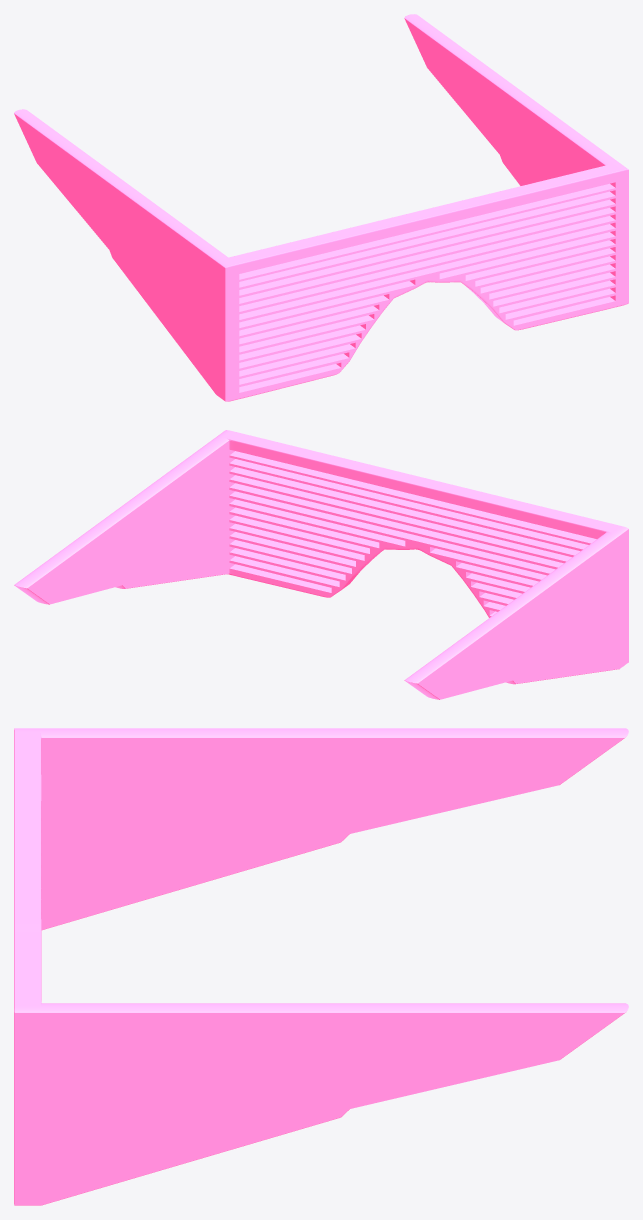
Rendered from SK_CYBERGLASSES.fbx.
3 renders of one model, top to bottom at view 1: azimuth 30°, elevation 25°; view 2: azimuth 150°, elevation 25°; view 3: azimuth 270°, elevation 25°, orthographic. The views are drawn at different scales.
Parts seen in each view (by area): view 1: Cube.001; view 2: Cube.001; view 3: Cube.001.
Part boxes in pixels (x1=…): Cube.001: x1=14, y1=14, x2=628, y2=401; Cube.001: x1=14, y1=430, x2=628, y2=699; Cube.001: x1=14, y1=728, x2=628, y2=1205.
Size of the model in its own units: 20.06 by 6.43 by 18.33.
